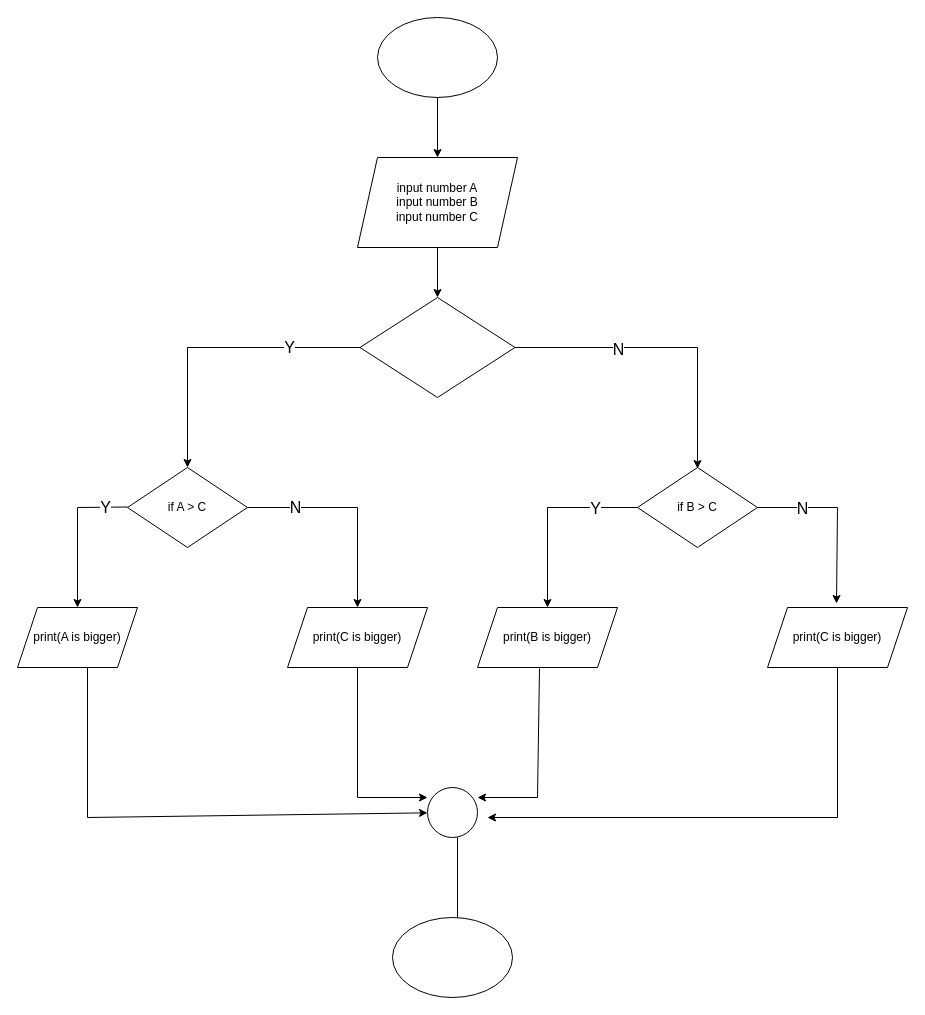
Image size: 925x1015. Some labels were removed from this diagram. The shapes that lost their labels are listed below. From the top down, each one's box as (x1, y1, x2, y2) in pixels, then its label:
(376, 16, 498, 98): START
(359, 296, 515, 398): if A > B
(392, 916, 512, 998): STOP
